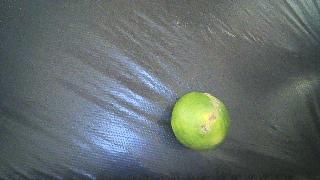DESECHO: (171, 92, 230, 151)
